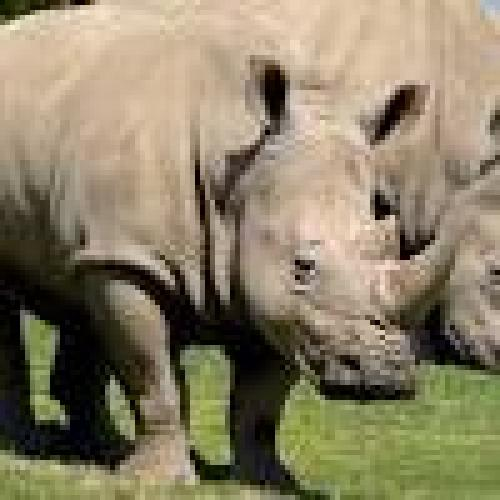rhino-endangered: (2, 2, 457, 486), (450, 5, 500, 370)
